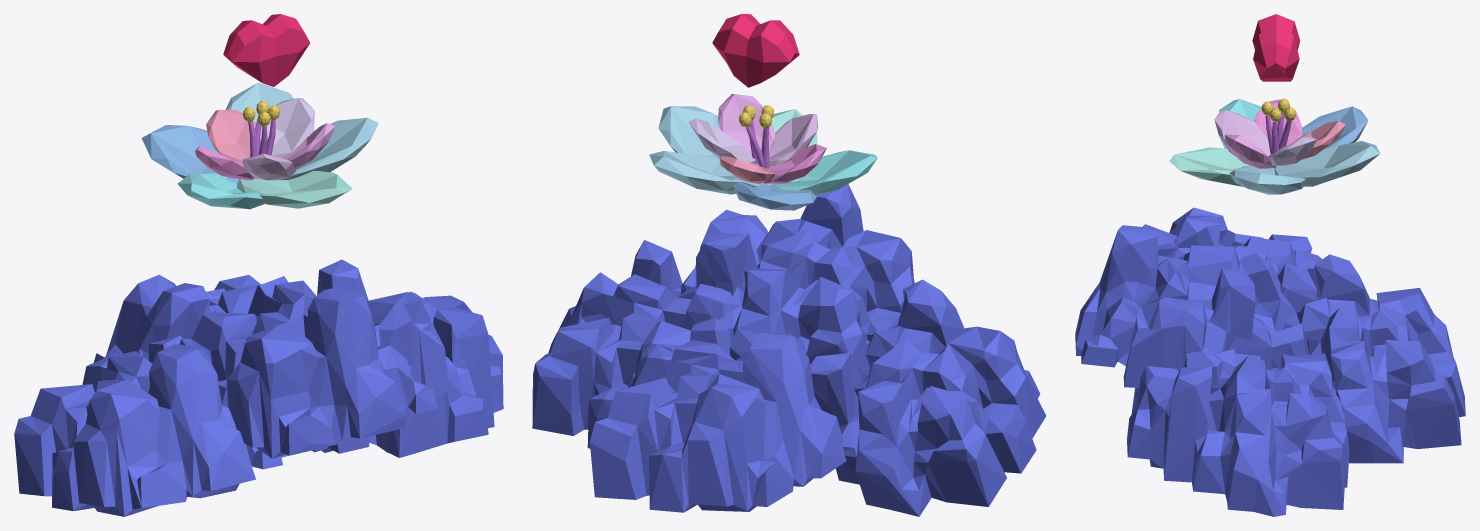
File: heart4.gltf
3 views of the same model, side by side, from view 1: azimuth 30°, elevation 25°; view 2: azimuth 150°, elevation 25°; view 3: azimuth 270°, elevation 25° (orthographic). The views are drawn at different scales.
Parts seen in each view (by area): view 1: Cube.002, Cube, Icosphere, Icosphere.004, Icosphere.002, Icosphere.001, Icosphere.008, Icosphere.009, Icosphere.003, Icosphere.005, Icosphere.007, Icosphere.006 (+2 smaller); view 2: Cube.002, Cube, Icosphere.003, Icosphere.001, Icosphere.002, Icosphere.007, Icosphere.004, Icosphere.005, Icosphere.008, Icosphere.006, Icosphere.009, Cylinder.002; view 3: Cube.002, Cube, Icosphere.003, Icosphere, Icosphere.002, Icosphere.005, Icosphere.004, Icosphere.007, Icosphere.008, Icosphere.009, Cylinder.002, Icosphere.006 (+2 smaller).
Part boxes in pixels (x1,y1,x2,y2): Cube.002: [14, 259, 503, 516]; Cube: [223, 14, 309, 86]; Icosphere: [237, 171, 352, 208]; Icosphere.004: [141, 125, 238, 183]; Icosphere.002: [279, 117, 378, 180]; Icosphere.001: [177, 172, 264, 209]; Icosphere.008: [259, 98, 314, 157]; Icosphere.009: [206, 109, 256, 163]; Icosphere.003: [225, 82, 293, 122]; Icosphere.005: [242, 153, 295, 180]; Icosphere.007: [281, 123, 335, 169]; Icosphere.006: [194, 146, 254, 180]; Cube.002: [532, 184, 1046, 516]; Cube: [712, 14, 799, 87]; Icosphere.003: [649, 150, 760, 194]; Icosphere.001: [774, 150, 877, 195]; Icosphere.002: [658, 106, 720, 158]; Icosphere.007: [718, 94, 775, 155]; Icosphere.004: [733, 181, 816, 210]; Icosphere.005: [769, 114, 817, 166]; Icosphere.008: [688, 118, 755, 163]; Icosphere.006: [764, 144, 826, 183]; Icosphere.009: [719, 155, 774, 183]; Cylinder.002: [746, 119, 769, 168]; Cube.002: [1075, 207, 1465, 516]; Cube: [1252, 14, 1300, 81]; Icosphere.003: [1274, 141, 1380, 186]; Icosphere: [1169, 147, 1249, 186]; Icosphere.002: [1229, 165, 1305, 194]; Icosphere.005: [1214, 110, 1270, 163]; Icosphere.004: [1302, 106, 1368, 146]; Icosphere.007: [1224, 134, 1276, 168]; Icosphere.008: [1268, 136, 1316, 165]; Icosphere.009: [1294, 120, 1345, 159]; Cylinder.002: [1265, 112, 1291, 154]; Icosphere.006: [1254, 99, 1301, 145].
Bounding box in the file's own units: 42.81 × 39.09 × 33.83.
